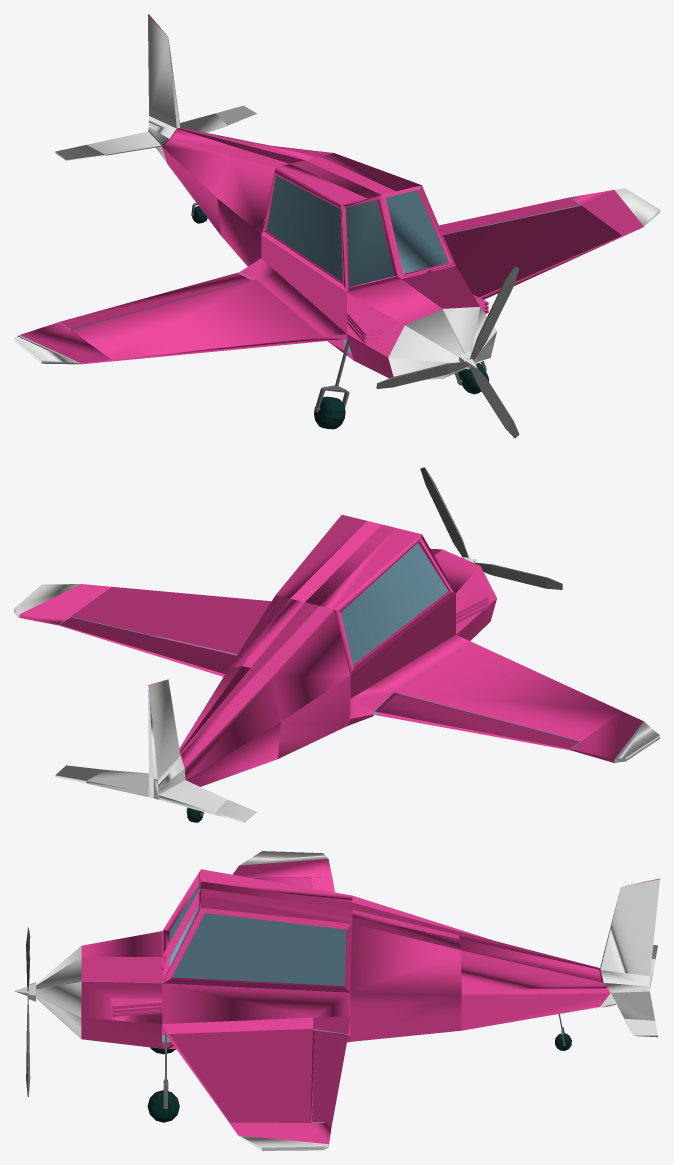
The picture shows the model from 3 angles, top to bottom: view 1: azimuth 30°, elevation 25°; view 2: azimuth 150°, elevation 25°; view 3: azimuth 270°, elevation 25°; orthographic projection.
Parts seen in each view (by area): view 1: Cube_3, Cube_1, Cube_0, Cube_2, Wheel_4; view 2: Cube_3, Cube_1, Cube_0; view 3: Cube_3, Wheel_2.
Part boxes in pixels (bbox=[...]): Cube_3: bbox=[14, 14, 659, 379]; Cube_1: bbox=[469, 266, 519, 360]; Cube_0: bbox=[376, 361, 466, 388]; Cube_2: bbox=[470, 367, 519, 438]; Wheel_4: bbox=[314, 396, 345, 429]; Cube_3: bbox=[14, 515, 659, 822]; Cube_1: bbox=[420, 467, 469, 558]; Cube_0: bbox=[474, 562, 562, 589]; Cube_3: bbox=[36, 851, 659, 1150]; Wheel_2: bbox=[147, 1090, 179, 1122].
Size of the model in its own units: 869 by 285 by 799.
